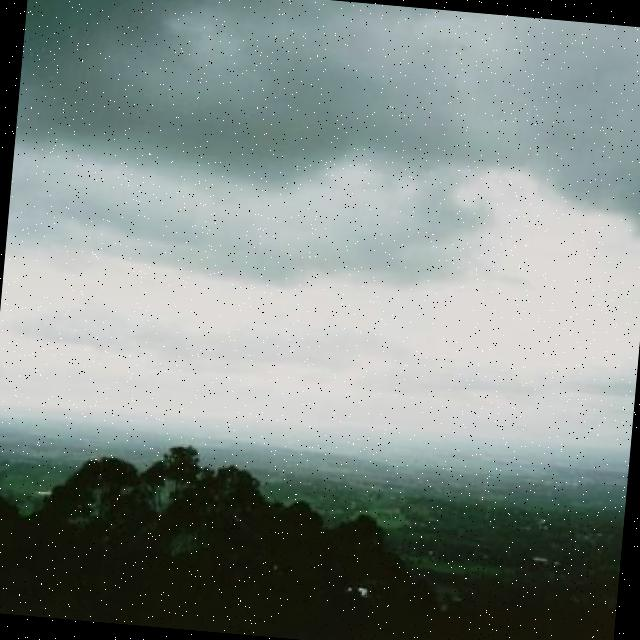Sc: (1, 1, 640, 450)
